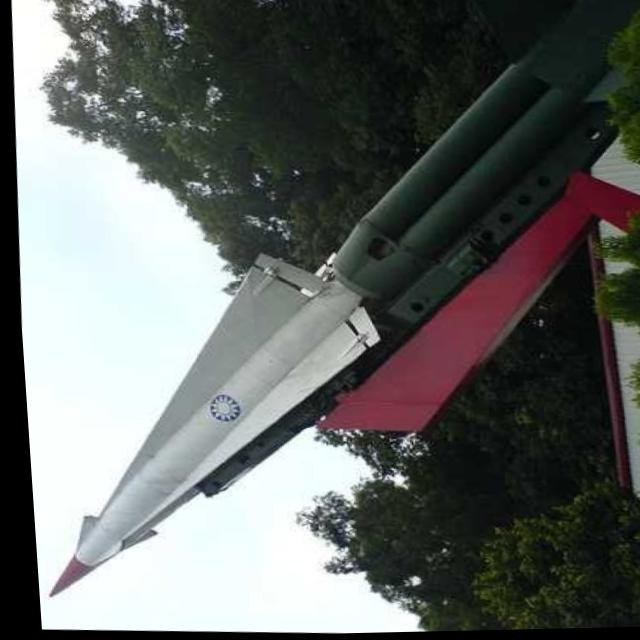missile: (16, 245, 391, 612)
